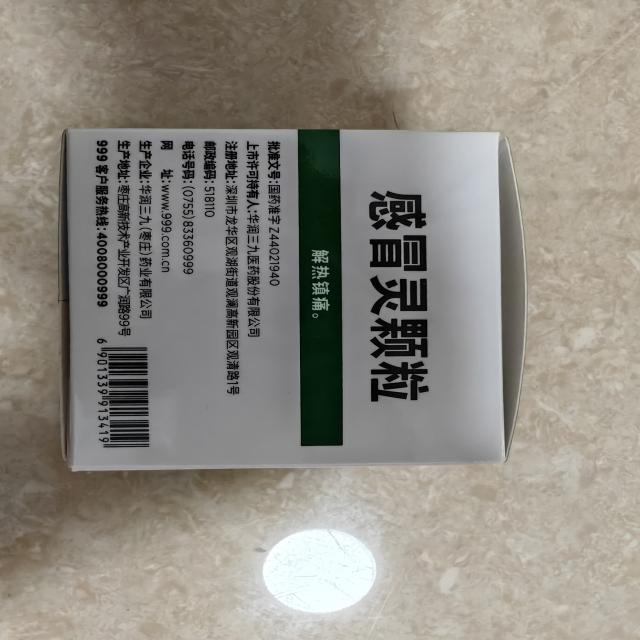box: (50, 116, 533, 474)
